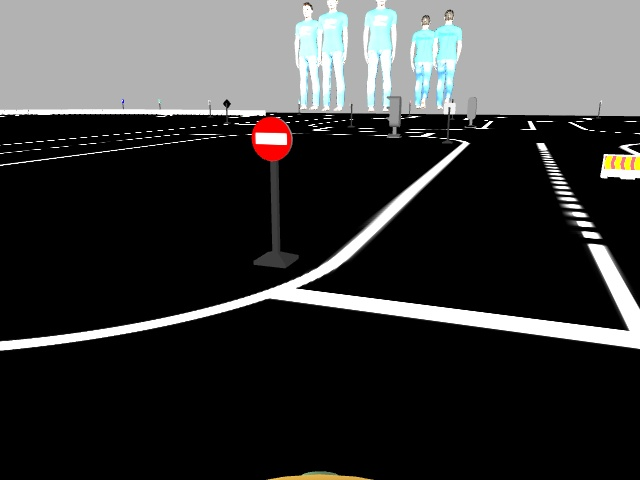ClosedRoadStand: (603, 155, 639, 178)
NoEntry: (251, 118, 289, 155)
